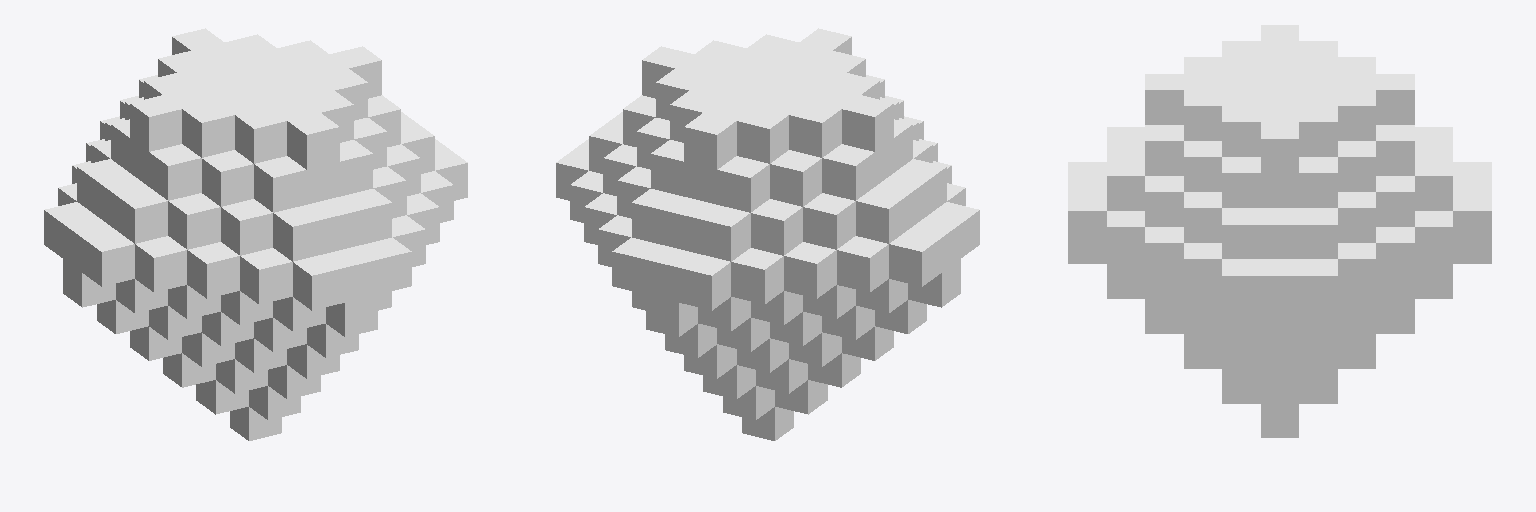
3 renders of one model, left to right at view 1: azimuth 30°, elevation 25°; view 2: azimuth 150°, elevation 25°; view 3: azimuth 270°, elevation 25°, orthographic.
Parts seen in each view (by area): view 1: Jewel-1.002, Jewel-0.002; view 2: Jewel-1.002, Jewel-0.002; view 3: Jewel-1.002, Jewel-0.002.
Part boxes in pixels (left/top/right/bottom): Jewel-1.002: left=44, top=28, right=467, bottom=440; Jewel-0.002: left=63, top=34, right=411, bottom=420; Jewel-1.002: left=556, top=28, right=979, bottom=440; Jewel-0.002: left=646, top=49, right=960, bottom=399; Jewel-1.002: left=1068, top=25, right=1491, bottom=437; Jewel-0.002: left=1068, top=41, right=1491, bottom=403.
Size of the model in its own units: 1.1 by 1 by 1.1.
2 materials, 1 textured.